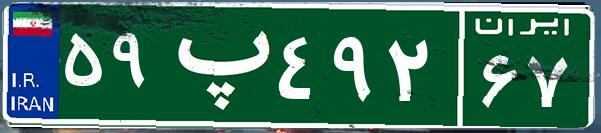2: (385, 28, 445, 110)
4: (273, 28, 330, 110)
5: (57, 26, 110, 107)
6: (475, 38, 525, 113)
7: (525, 38, 570, 115)
9: (330, 28, 385, 110), (110, 28, 158, 105)
پ: (158, 15, 273, 115)
